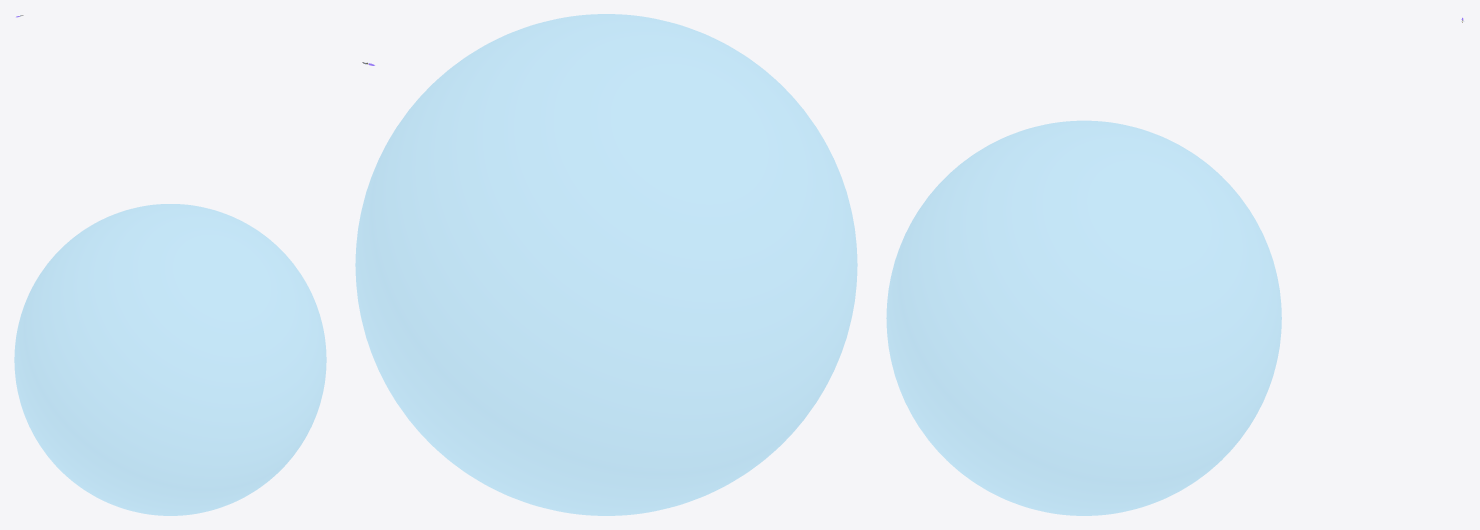
Rendered from ship_lite.glb.
The picture shows the model from 3 angles, left to right: view 1: azimuth 30°, elevation 25°; view 2: azimuth 150°, elevation 25°; view 3: azimuth 270°, elevation 25°; orthographic projection. The views are drawn at different scales.
Parts seen in each view (by area): view 1: earth_rim; view 2: earth_rim; view 3: earth_rim.
Boxes of the visible parts, left/top/right/bottom form: earth_rim: left=14, top=204, right=326, bottom=515; earth_rim: left=355, top=14, right=857, bottom=515; earth_rim: left=886, top=120, right=1281, bottom=515.
Size of what is drawn, in the model's own units: 3135 by 4200 by 4591.
